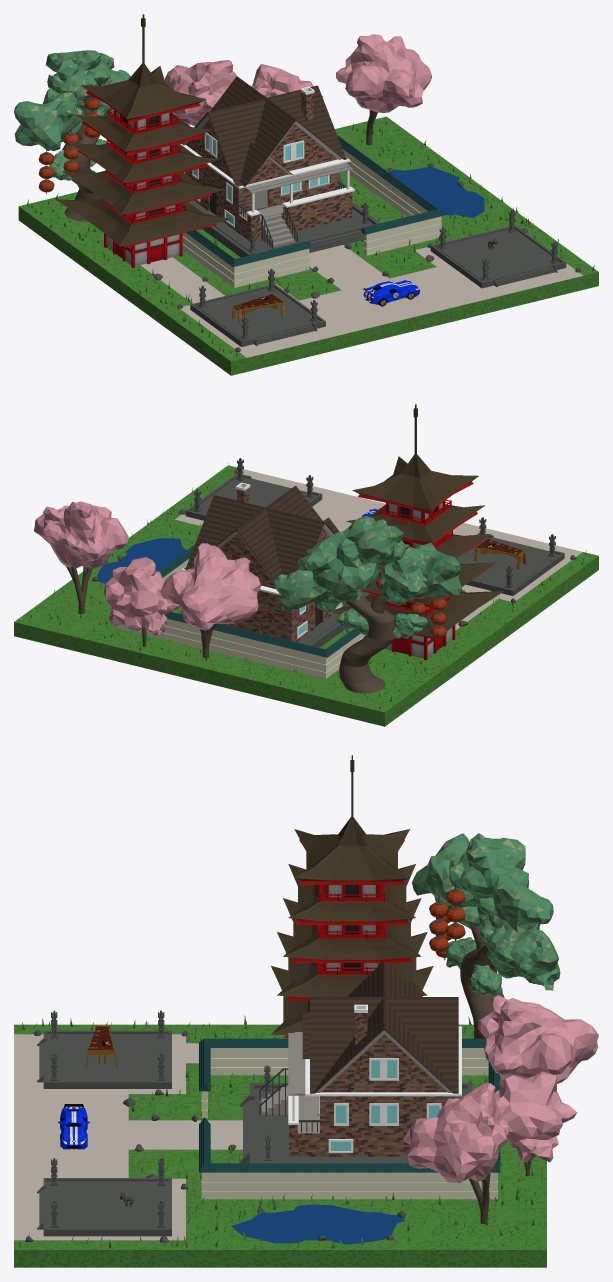
The picture shows the model from 3 angles, top to bottom: view 1: azimuth 30°, elevation 25°; view 2: azimuth 150°, elevation 25°; view 3: azimuth 270°, elevation 25°; orthographic projection. The views are drawn at different scales.
Visible parts, largest first — view 1: Cube.005, Cube.117, VEHICLES_RACING_CAR, OBJRANDOM_MARIMBA; view 2: Cube.005, Cube.117, OBJRANDOM_MARIMBA; view 3: Cube.005, Cube.117, VEHICLES_RACING_CAR, OBJRANDOM_MARIMBA.
Part boxes in pixels (x1,y1,x2,y2): Cube.005: (14,14,598,375); Cube.117: (179,76,354,248); VEHICLES_RACING_CAR: (363,280,419,306); OBJRANDOM_MARIMBA: (232,293,285,323); Cube.005: (14,404,598,726); Cube.117: (181,482,347,642); OBJRANDOM_MARIMBA: (473,538,526,569); Cube.005: (14,755,598,1267); Cube.117: (259,961,461,1156); VEHICLES_RACING_CAR: (58,1104,89,1149); OBJRANDOM_MARIMBA: (85,1025,117,1068).
Size of the model in its own units: 4528 by 2706 by 4389.
Materials: 43 (6 with a texture image).
